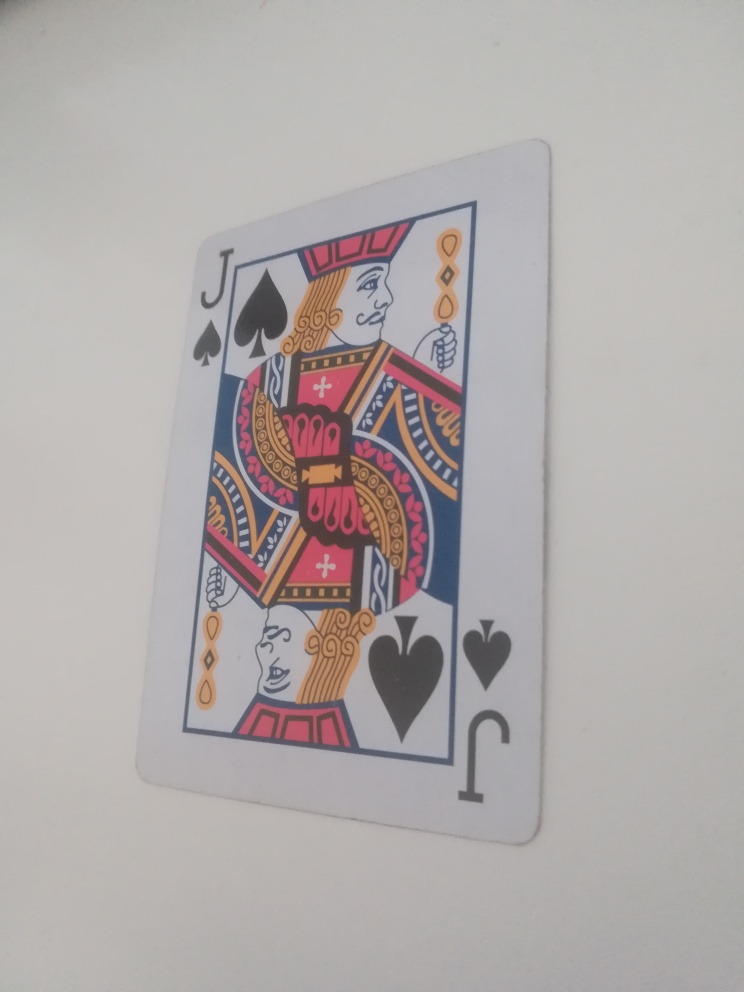JS: (192, 238, 237, 372)
